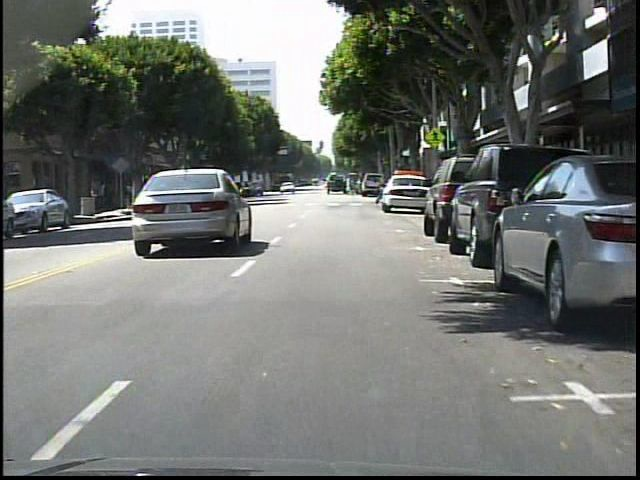person: (97, 177, 110, 212), (127, 180, 135, 206), (349, 174, 350, 194)
